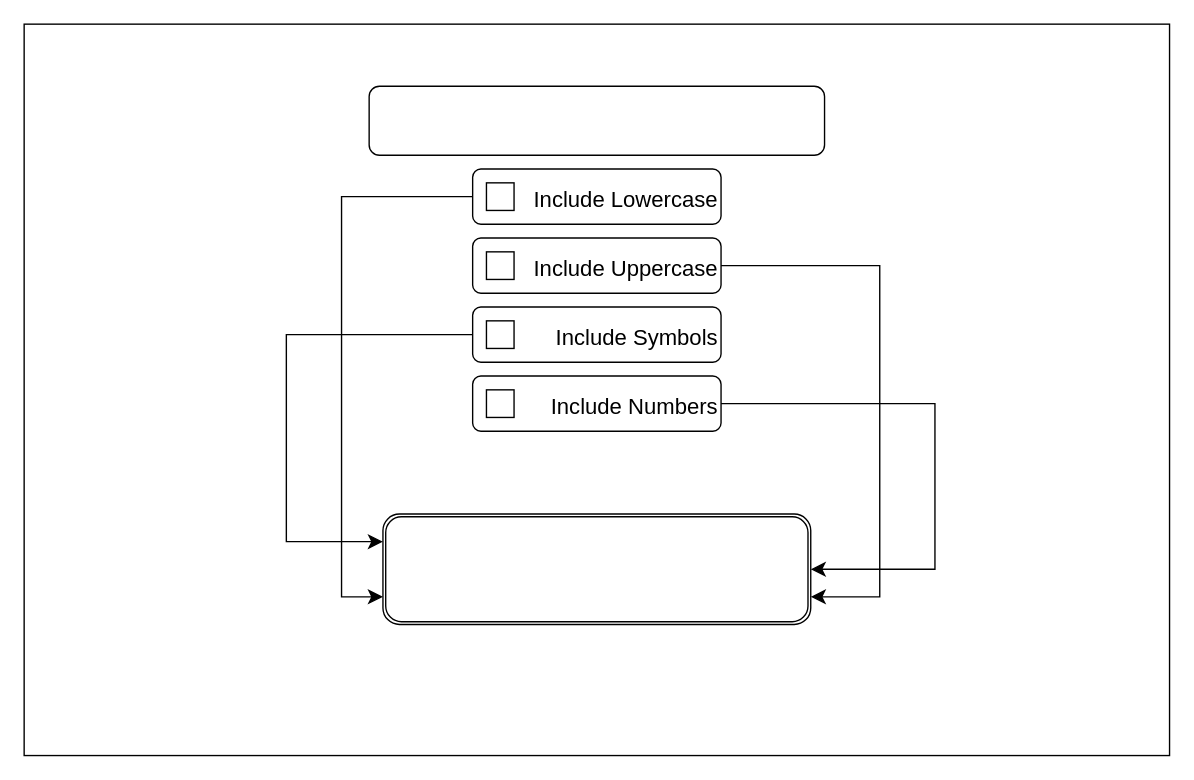
Image size: 1194x780. Some labels were removed from this diagram. Here are the shapes that lost their labels. From the top down, the centre of each, then its label:
At [596,120]: "Password Generator".
At [596,568]: "Generated password:".
